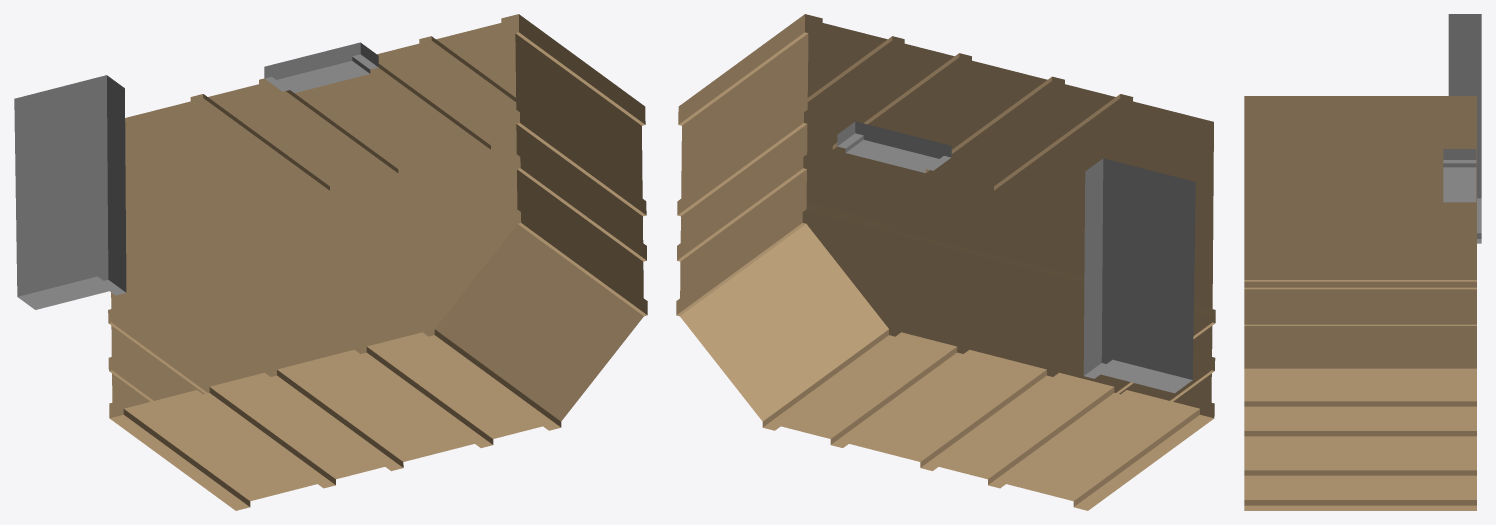
3 renders of one model, left to right at view 1: azimuth 30°, elevation 25°; view 2: azimuth 150°, elevation 25°; view 3: azimuth 270°, elevation 25°, orthographic. The views are drawn at different scales.
Visible parts, largest first — view 1: 0_2_1_0_0_3_0_3_0; view 2: 0_2_1_0_0_3_0_3_0; view 3: 0_2_1_0_0_3_0_3_0.
Boxes of the visible parts, x1,y1,x2,y2 form: 0_2_1_0_0_3_0_3_0: (14, 14, 647, 510); 0_2_1_0_0_3_0_3_0: (676, 14, 1215, 510); 0_2_1_0_0_3_0_3_0: (1244, 14, 1481, 510).
Bounding box in the file's own units: 48.33 × 31.27 × 21.44.
